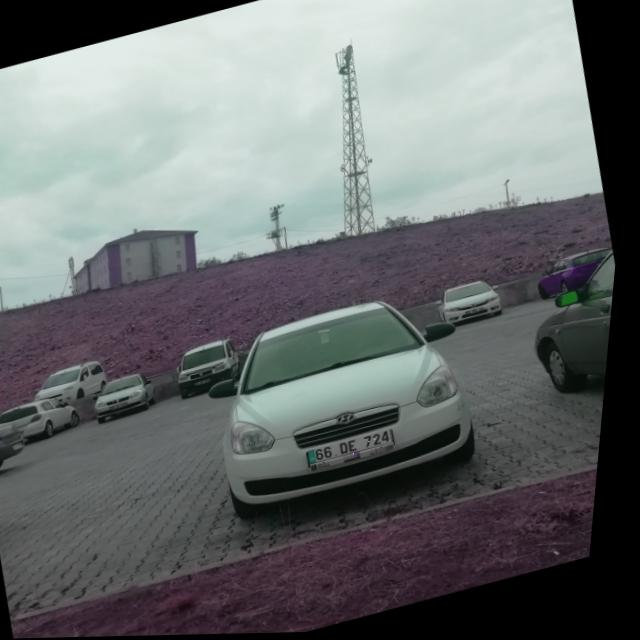license_plate: (315, 431, 404, 470)
